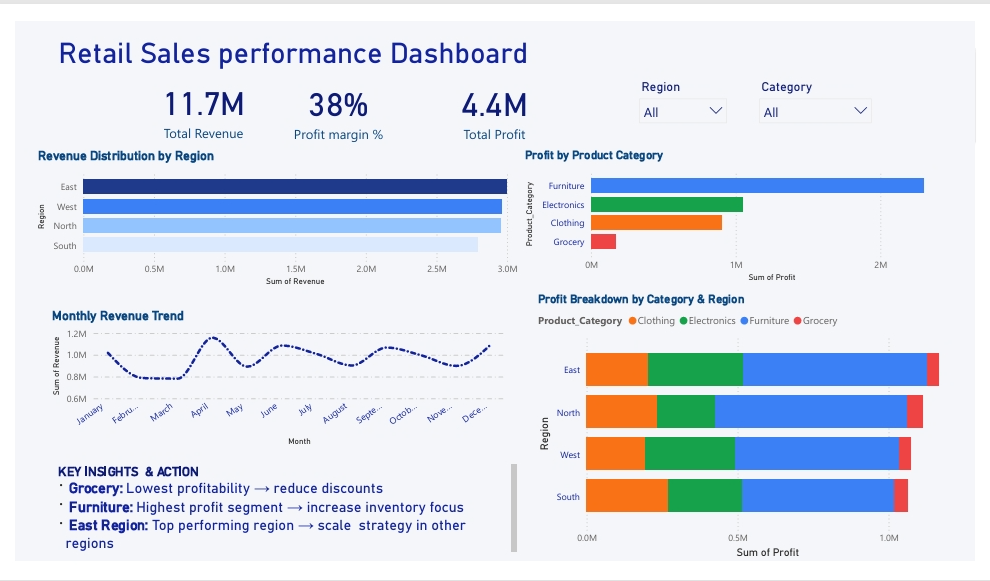

What the dashboard file says about the page in this screenshot:
{"tool":"powerbi","page":{"name":"Page 1","canvas":[1280,720],"ordinal":0},"visuals":[{"type":"card","fields":{"Values":["retail_sales_dataset.Total Revenue"]},"box":[165.6,61.9,168.5,106.6],"z":0},{"type":"card","fields":{"Values":["retail_sales_dataset.Total Profit"]},"box":[568.8,66.2,138.2,102.2],"z":1000},{"type":"card","fields":{"Values":["retail_sales_dataset.Profit margin %"]},"box":[358.6,66.2,142.6,102.2],"z":2000},{"type":"clusteredBarChart","title":"Revenue Distribution by Region","fields":{"Y":["Sum(retail_sales_dataset.Revenue)"],"Category":["retail_sales_dataset.Region"]},"box":[24.5,168.5,649.4,188.6],"z":3000},{"type":"clusteredBarChart","title":"Profit by Product Category","fields":{"Y":["Sum(retail_sales_dataset.Profit)"],"Category":["retail_sales_dataset.Product_Category"]},"box":[673.9,168.5,589,182.9],"z":4000},{"type":"lineChart","title":"Monthly Revenue Trend","fields":{"Category":["retail_sales_dataset.Date.Variation.Date Hierarchy.Month"],"Y":["Sum(retail_sales_dataset.Revenue)"]},"box":[43.2,381.6,613.4,188.6],"z":5000},{"type":"barChart","title":"Profit  Breakdown by Category & Region","fields":{"Y":["Sum(retail_sales_dataset.Profit)"],"Category":["retail_sales_dataset.Region"],"Series":["retail_sales_dataset.Product_Category"]},"box":[691.2,360,571.7,360],"z":6000},{"type":"slicer","fields":{"Values":["retail_sales_dataset.Region"]},"box":[820.8,70.6,136.8,69.1],"z":7000},{"type":"slicer","fields":{"Values":["retail_sales_dataset.Product_Category"]},"box":[980.6,70.6,169.9,69.1],"z":8000},{"type":"textbox","box":[43.2,584.6,630.7,135.4],"z":9000},{"type":"textbox","box":[23,14.4,797.8,56.2],"z":10000}]}

Visuals, with their boxes on the page's 1280x720 design canvas (x1, y1, x2, y2). These are canvas units, not pixel positions in the 990x581 screenshot, which may show the page scaled, cropped or inside an application window:
card - retail_sales_dataset.Total Revenue: left=166, top=62, right=334, bottom=168
card - retail_sales_dataset.Total Profit: left=569, top=66, right=707, bottom=168
card - retail_sales_dataset.Profit margin %: left=359, top=66, right=501, bottom=168
"Revenue Distribution by Region" clusteredBarChart: left=24, top=168, right=674, bottom=357
"Profit by Product Category" clusteredBarChart: left=674, top=168, right=1263, bottom=351
"Monthly Revenue Trend" lineChart: left=43, top=382, right=657, bottom=570
"Profit  Breakdown by Category & Region" barChart: left=691, top=360, right=1263, bottom=720
slicer - retail_sales_dataset.Region: left=821, top=71, right=958, bottom=140
slicer - retail_sales_dataset.Product_Category: left=981, top=71, right=1150, bottom=140
textbox: left=43, top=585, right=674, bottom=720
textbox: left=23, top=14, right=821, bottom=71
